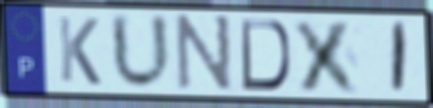D: (239, 17, 293, 93)
I: (389, 19, 410, 96)
K: (56, 14, 103, 88)
N: (174, 13, 233, 96)
U: (108, 10, 175, 93)
X: (290, 17, 365, 95)
